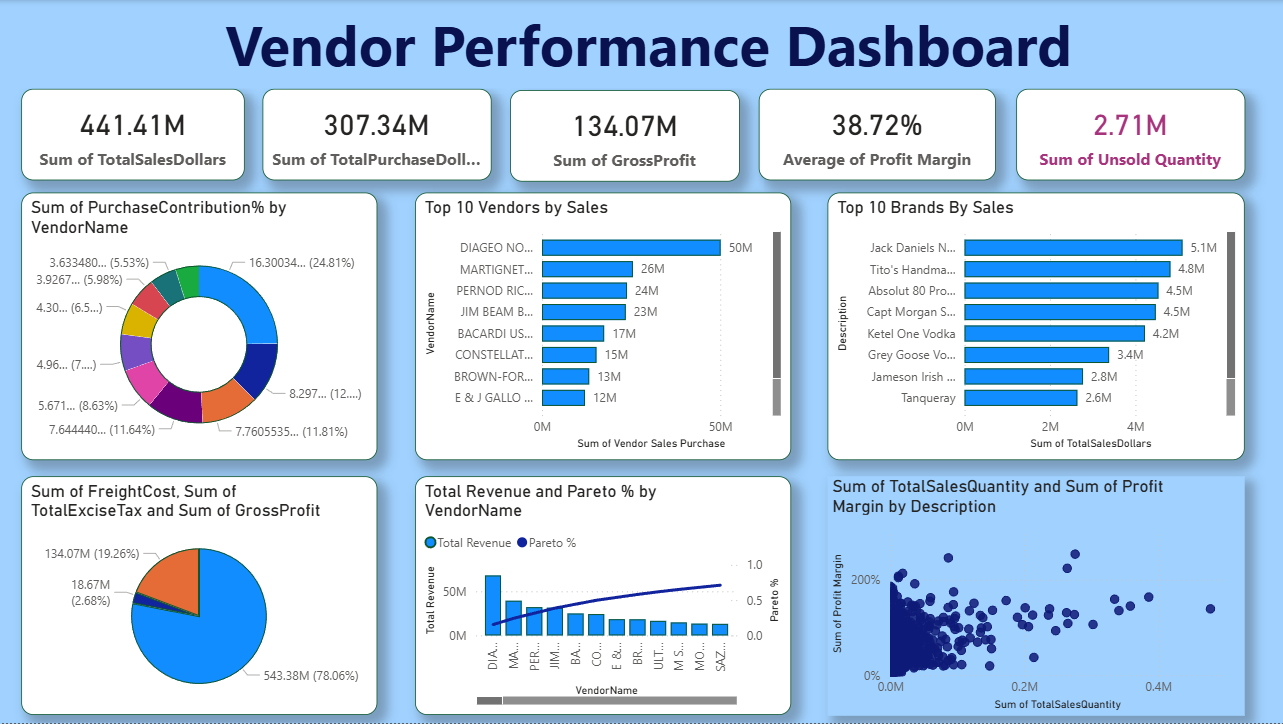

Layout of this report page (visuals, bound fields, positions):
{"tool":"powerbi","page":{"name":"Page 1","canvas":[1280,720],"ordinal":0},"visuals":[{"type":"card","fields":{"Values":["Sum(vendor_sales_summary.TotalSalesDollars)"]},"box":[21.1,88.3,222.7,90.8],"z":0},{"type":"card","fields":{"Values":["Sum(vendor_sales_summary.TotalPurchaseDollars)"]},"box":[261.2,88.3,227.6,90.8],"z":1},{"type":"card","fields":{"Values":["Sum(vendor_sales_summary.GrossProfit)"]},"box":[507.5,89.6,228.9,90.8],"z":2},{"type":"card","fields":{"Values":["Sum(vendor_sales_summary.Unsold Quantity)"]},"box":[1011.3,88.3,227.6,90.8],"z":3},{"type":"card","fields":{"Values":["Avg(vendor_sales_summary.Profit Margin)"]},"box":[755.1,88.3,236.4,90.8],"z":4},{"type":"textbox","box":[11.2,0,1268.8,88.3],"z":5},{"type":"donutChart","fields":{"Y":["Sum(top 10 Vndors by Contribution.PurchaseContribution%)"],"Category":["top 10 Vndors by Contribution.VendorName"]},"box":[21.1,191.6,354.5,266.2],"z":6},{"type":"barChart","title":"Top 10 Vendors by Sales","fields":{"Category":["top 10 Vndors by Contribution.VendorName"],"Y":["Sum(top 10 Vndors by Contribution.Vendor Sales Purchase)"]},"box":[413,191.6,374.4,266.2],"z":7},{"type":"barChart","title":"Top 10 Brands By Sales","fields":{"Category":["Top Brand By Sales.Description"],"Y":["Sum(Top Brand By Sales.TotalSalesDollars)"]},"box":[823.5,191.6,415.5,266.2],"z":8},{"type":"pieChart","fields":{"Y":["Sum(vendor_sales_summary.FreightCost)","Sum(vendor_sales_summary.TotalExciseTax)","Sum(vendor_sales_summary.GrossProfit)"]},"box":[21.1,473.9,354.5,237.6],"z":10},{"type":"lineClusteredColumnComboChart","fields":{"Category":["vendor_sales_summary.VendorName"],"Y":["Low Turnover Vendor.Total Revenue"],"Y2":["Low Turnover Vendor.Pareto %"]},"box":[413,473.9,374.4,237.6],"z":12},{"type":"scatterChart","fields":{"X":["Sum(vendor_sales_summary.TotalSalesQuantity)"],"Y":["Sum(vendor_sales_summary.Profit Margin)"],"Category":["vendor_sales_summary.Description"]},"box":[824,474,415,238],"z":13}]}

Visuals, with their boxes in screenshot pixels (x1, y1, x2, y2), scaled from the page's 1280x720 canvas onto the 1283x724 screenshot:
card - Sum(vendor_sales_summary.TotalSalesDollars): 21 89 244 180
card - Sum(vendor_sales_summary.TotalPurchaseDollars): 262 89 490 180
card - Sum(vendor_sales_summary.GrossProfit): 509 90 738 181
card - Sum(vendor_sales_summary.Unsold Quantity): 1014 89 1242 180
card - Avg(vendor_sales_summary.Profit Margin): 757 89 994 180
textbox: 11 0 1282 89
donutChart - Sum(top 10 Vndors by Contribution.PurchaseContribution%) x top 10 Vndors by Contribution.VendorName: 21 193 376 460
"Top 10 Vendors by Sales" barChart: 414 193 789 460
"Top 10 Brands By Sales" barChart: 825 193 1242 460
pieChart - Sum(vendor_sales_summary.FreightCost) x Sum(vendor_sales_summary.TotalExciseTax): 21 477 376 715
lineClusteredColumnComboChart - vendor_sales_summary.VendorName x Low Turnover Vendor.Total Revenue: 414 477 789 715
scatterChart - Sum(vendor_sales_summary.TotalSalesQuantity) x Sum(vendor_sales_summary.Profit Margin): 826 477 1242 716
